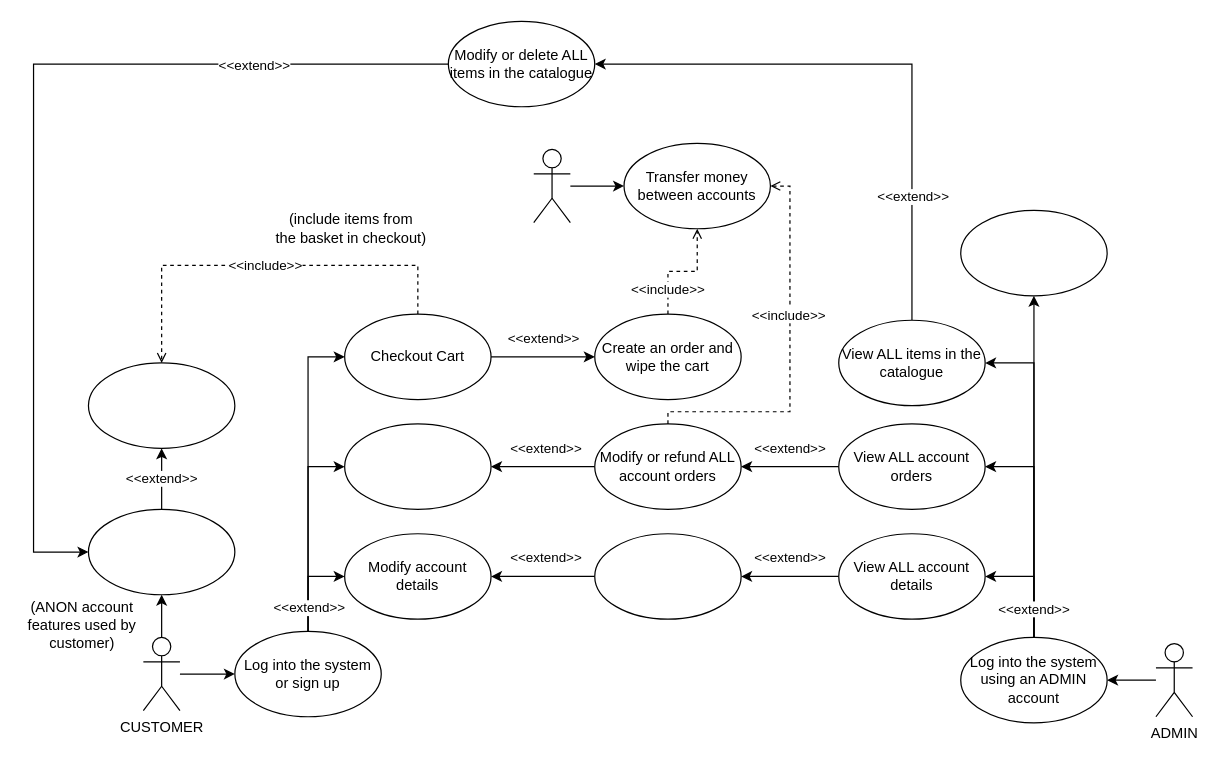
Some shapes in this 1219 by 764 pixel diagram are drawn without their labels. Here are the shapes that lost their labels. From the top down, the centre of each, then its label:
At point (551, 185): "BANK".
At point (1033, 252): "Set remote bank properties to be used by the BANK actor".
At point (161, 405): "Add available items to the cart and view cart".
At point (417, 466): "View account orders".
At point (161, 551): "Browse and search the catalogue".
At point (667, 576): "Modify ALL account details and roles".
